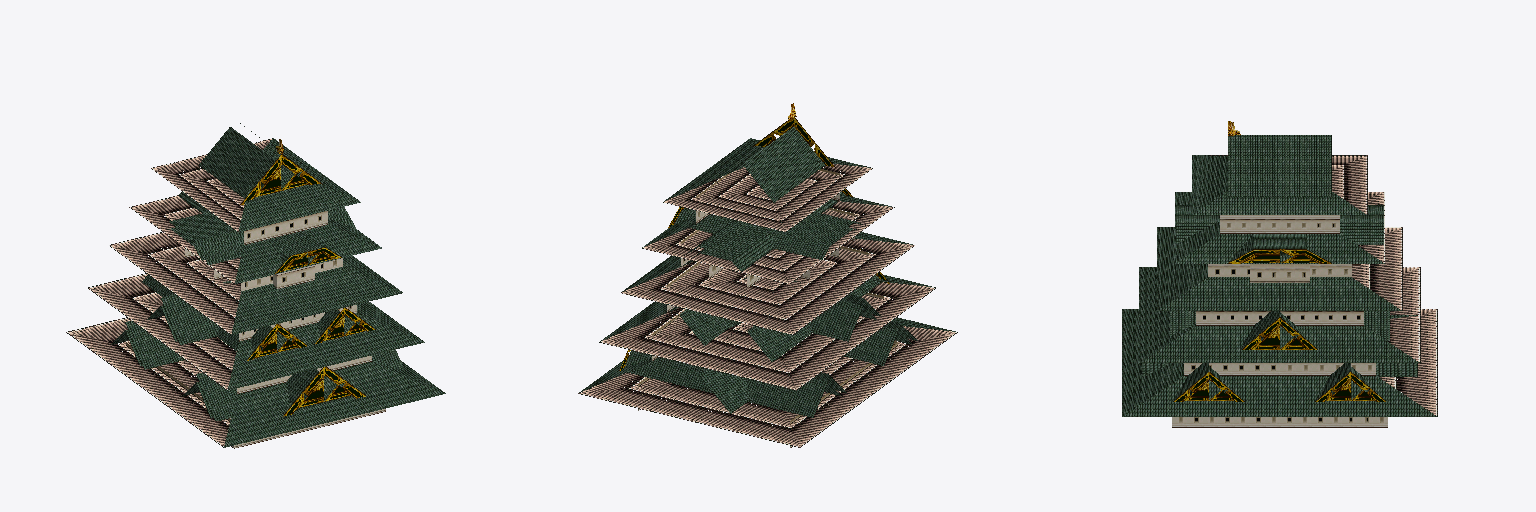
The picture shows the model from 3 angles: view 1: azimuth 30°, elevation 25°; view 2: azimuth 150°, elevation 25°; view 3: azimuth 270°, elevation 25°; orthographic projection.
Visible parts, largest first — view 1: Shape_IndexedFaceSet.147; view 2: Shape_IndexedFaceSet.147; view 3: Shape_IndexedFaceSet.147.
Part boxes in pixels (x1,y1,x2,y2): Shape_IndexedFaceSet.147: (66, 123, 445, 448); Shape_IndexedFaceSet.147: (578, 103, 957, 447); Shape_IndexedFaceSet.147: (1122, 121, 1437, 427).
Size of the model in its own units: 7.11 by 8.22 by 8.76.
5 materials, 5 textured.